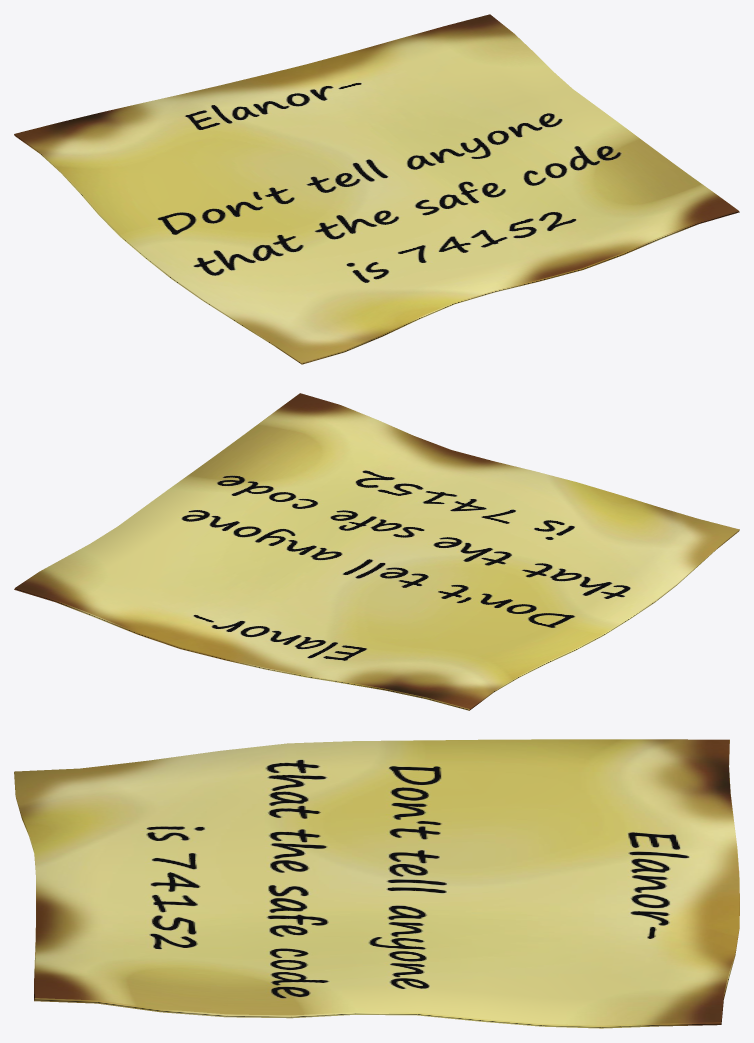
File: safecode1.glb
3 views of the same model, one above another, from view 1: azimuth 30°, elevation 25°; view 2: azimuth 150°, elevation 25°; view 3: azimuth 270°, elevation 25° (orthographic). The views are drawn at different scales.
Parts seen in each view (by area): view 1: Plane; view 2: Plane; view 3: Plane.
Part boxes in pixels (bbox=[...]): Plane: bbox=[14, 14, 739, 364]; Plane: bbox=[14, 393, 739, 710]; Plane: bbox=[14, 739, 739, 1028].
Size of the model in its own units: 3.44 by 0.2689 by 3.49.
1 material, 1 textured.
